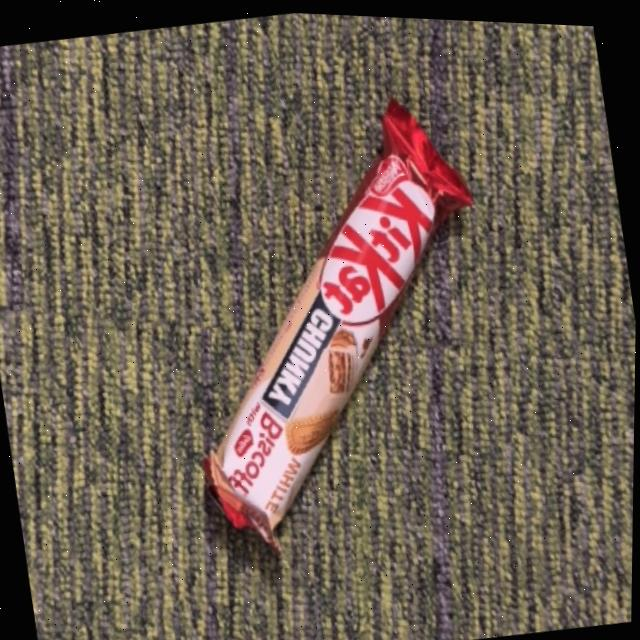chocolate: (140, 73, 535, 584)
